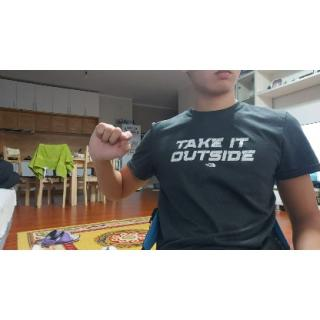FAA: (84, 118, 134, 166)
